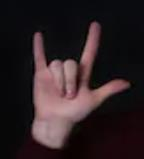back: (29, 19, 133, 124)
